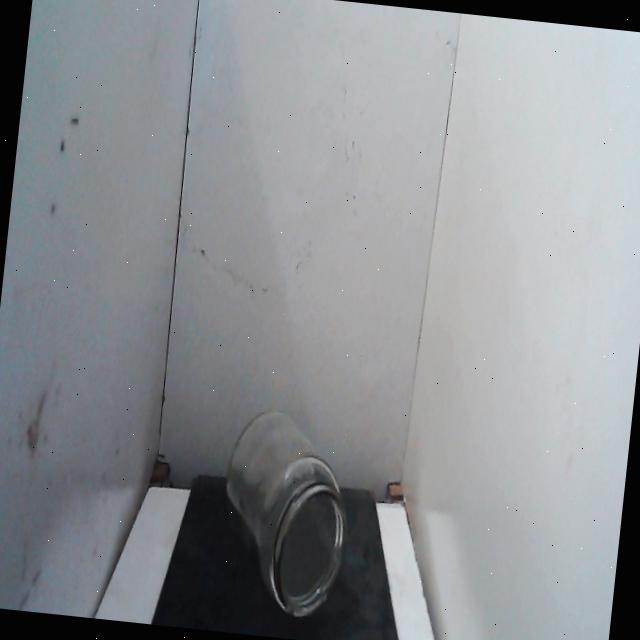vidro: (202, 394, 370, 636)
